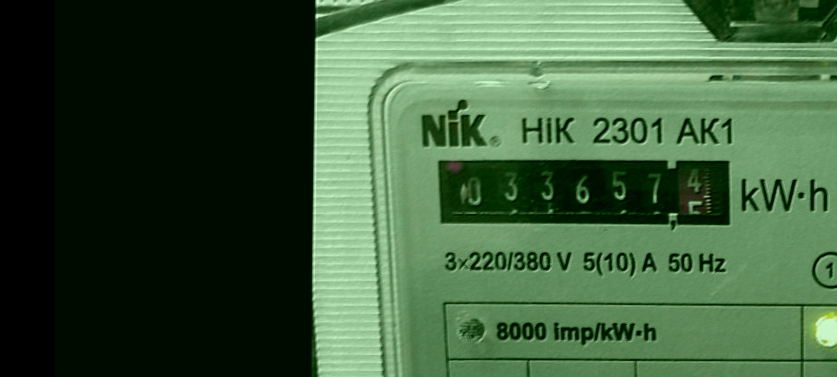0: (465, 173, 486, 211)
3: (503, 170, 522, 205), (539, 169, 557, 204)
4: (686, 166, 705, 196)
5: (609, 168, 631, 204)
6: (573, 173, 593, 208)
7: (646, 171, 664, 207)
screen: (427, 151, 740, 237)
